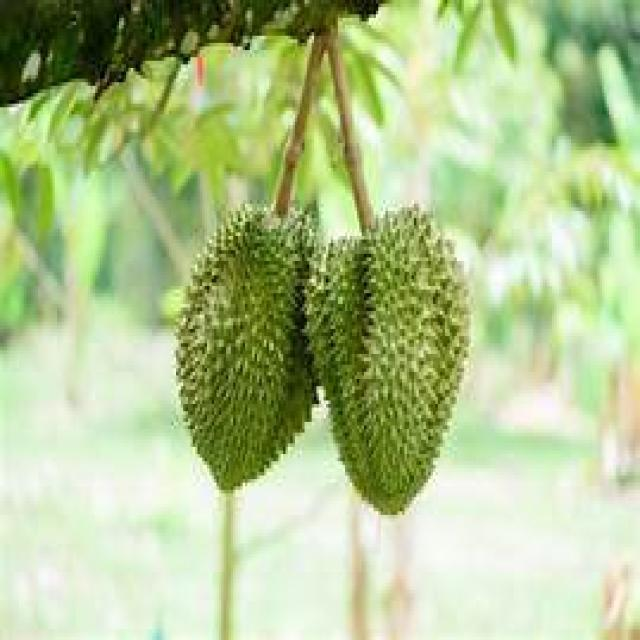immature: (302, 201, 472, 521), (173, 207, 323, 490)
